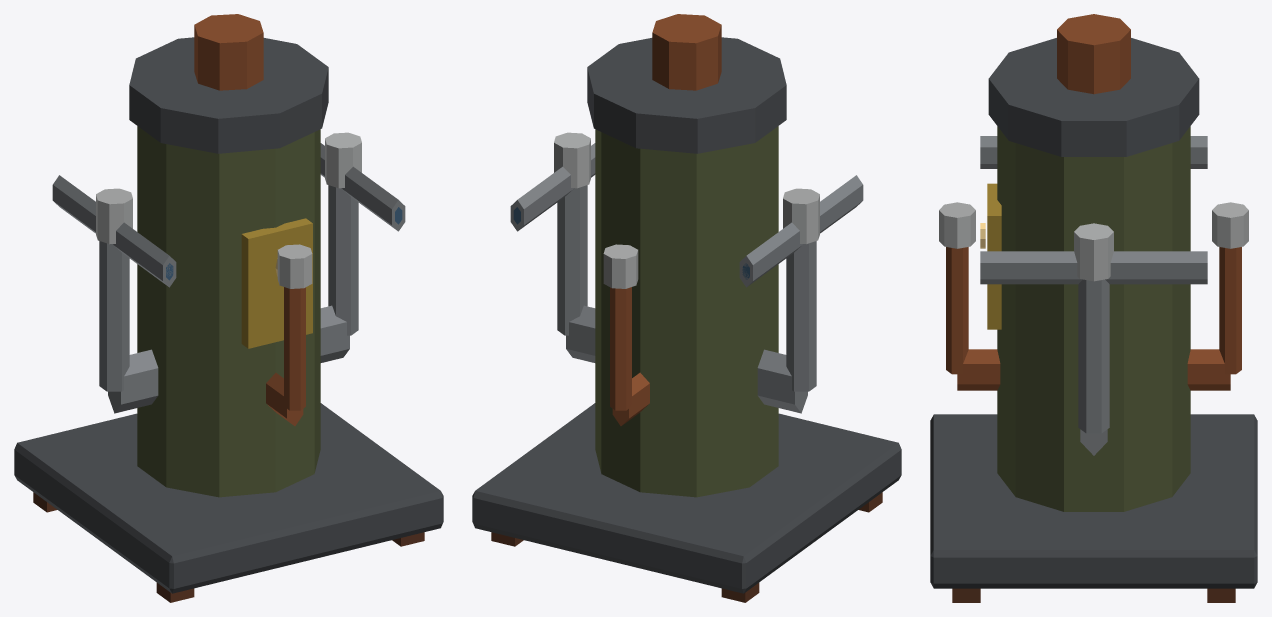
The model's file is piece_irrigator.fbx.
3 views of the same model, side by side, from view 1: azimuth 30°, elevation 25°; view 2: azimuth 150°, elevation 25°; view 3: azimuth 270°, elevation 25° (orthographic). The views are drawn at different scales.
Visible parts, largest first — view 1: piece_irrigator; view 2: piece_irrigator; view 3: piece_irrigator.
Part boxes in pixels (x1=…): piece_irrigator: x1=14, y1=14, x2=443, y2=602; piece_irrigator: x1=472, y1=14, x2=901, y2=602; piece_irrigator: x1=930, y1=14, x2=1257, y2=602.
Size of the model in its own units: 0.575 by 0.9875 by 0.575.
